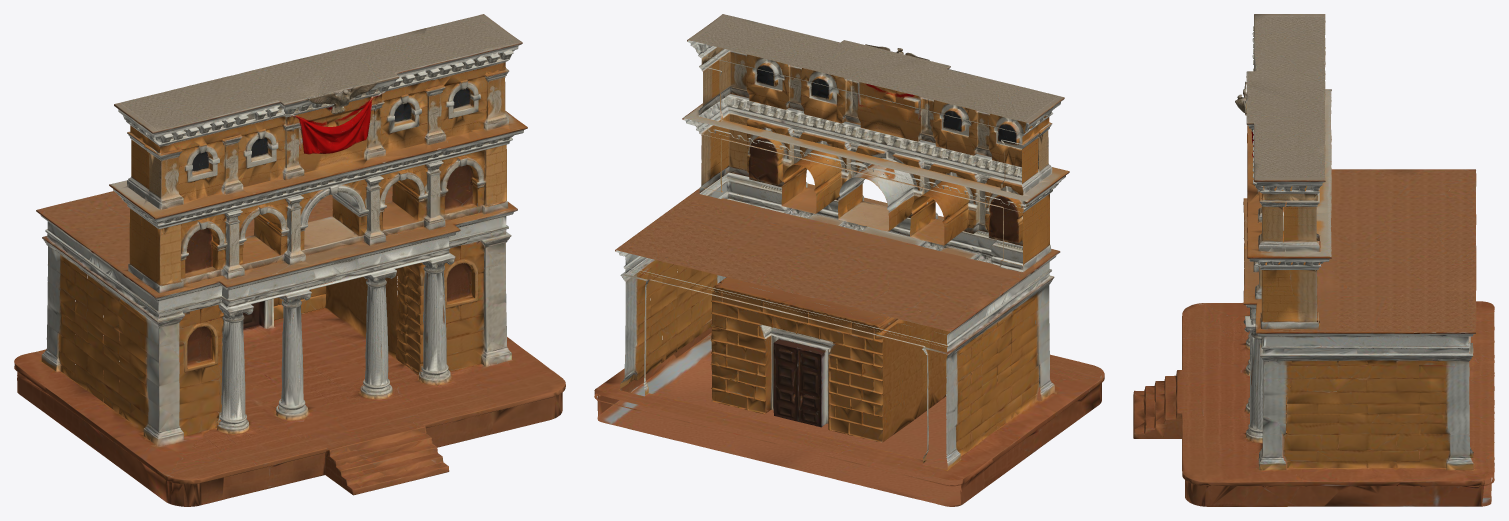
Rendered from forum_bay.glb.
3 views of the same model, side by side, from view 1: azimuth 30°, elevation 25°; view 2: azimuth 150°, elevation 25°; view 3: azimuth 270°, elevation 25° (orthographic). The views are drawn at different scales.
Size of the model in its own units: 1.9 by 1.6 by 1.62.
Materials: 1 (1 with a texture image).
